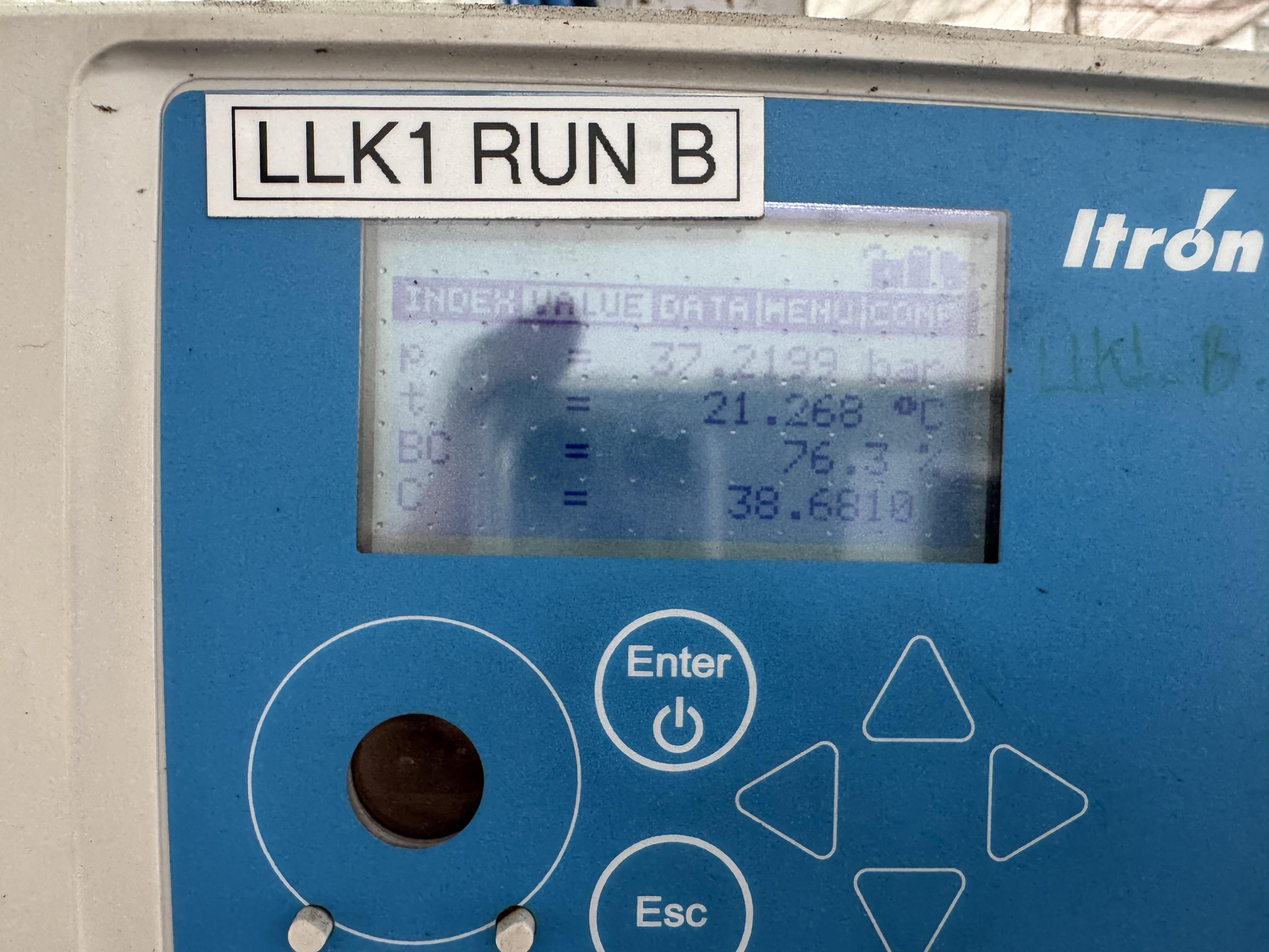digital_screen: (356, 196, 1008, 562)
